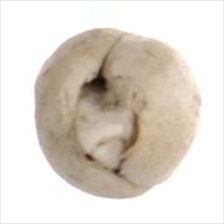L3: (72, 77, 139, 175)
L4: (33, 26, 201, 200)
